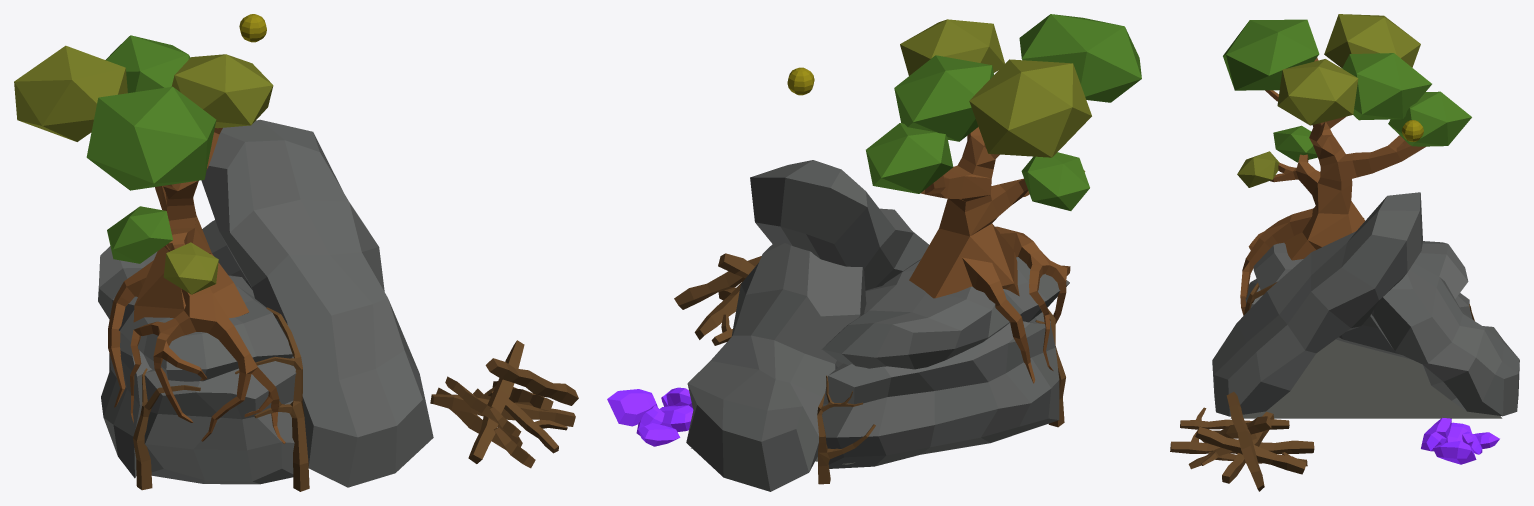
Rendered from storage.fbx.
3 views of the same model, side by side, from view 1: azimuth 30°, elevation 25°; view 2: azimuth 150°, elevation 25°; view 3: azimuth 270°, elevation 25° (orthographic). The views are drawn at different scales.
Visible parts, largest first — view 1: cave, Cube.009, Icosphere.027, Icosphere.026, Icosphere.024, Icosphere.001, Icosphere.029, root.002, Icosphere.028, stick.002, root.001, stick.001 (+6 smaller); view 2: cave, Cube.009, Icosphere.026, Icosphere.027, Icosphere.001, Icosphere.025, Icosphere.024, Icosphere.029, root, amber, stick.002, stick.003 (+4 smaller); view 3: cave, Plane, Cube.009, Icosphere.027, Icosphere.001, Icosphere.024, Icosphere.026, Icosphere.025, stick.003, stick.005, stick.002, Icosphere.029 (+7 smaller).
Part boxes in pixels (x1=…): cave: x1=98, y1=119, x2=433, y2=487; Cube.009: x1=108, y1=128, x2=285, y2=443; Icosphere.027: x1=86, y1=86, x2=216, y2=190; Icosphere.026: x1=14, y1=45, x2=127, y2=141; Icosphere.024: x1=171, y1=54, x2=273, y2=128; Icosphere.001: x1=106, y1=35, x2=190, y2=93; Icosphere.029: x1=107, y1=206, x2=172, y2=263; root.002: x1=235, y1=307, x2=309, y2=491; Icosphere.028: x1=163, y1=242, x2=218, y2=294; stick.002: x1=485, y1=358, x2=578, y2=405; root.001: x1=133, y1=368, x2=200, y2=490; stick.001: x1=468, y1=340, x2=524, y2=463; cave: x1=686, y1=160, x2=1069, y2=491; Cube.009: x1=909, y1=127, x2=1070, y2=383; Icosphere.026: x1=969, y1=59, x2=1091, y2=157; Icosphere.027: x1=1019, y1=14, x2=1141, y2=102; Icosphere.001: x1=894, y1=55, x2=993, y2=141; Icosphere.025: x1=866, y1=123, x2=953, y2=193; Icosphere.024: x1=900, y1=19, x2=1004, y2=75; Icosphere.029: x1=1021, y1=152, x2=1089, y2=210; root: x1=817, y1=375, x2=875, y2=484; amber: x1=607, y1=389, x2=657, y2=426; stick.002: x1=674, y1=256, x2=761, y2=309; stick.003: x1=694, y1=281, x2=742, y2=339; cave: x1=1212, y1=192, x2=1519, y2=416; Plane: x1=1230, y1=339, x2=1502, y2=418; Cube.009: x1=1240, y1=57, x2=1425, y2=315; Icosphere.027: x1=1223, y1=19, x2=1319, y2=90; Icosphere.001: x1=1342, y1=53, x2=1431, y2=120; Icosphere.024: x1=1277, y1=59, x2=1358, y2=125; Icosphere.026: x1=1324, y1=14, x2=1420, y2=67; Icosphere.025: x1=1388, y1=91, x2=1471, y2=146; stick.003: x1=1195, y1=426, x2=1306, y2=474; stick.005: x1=1170, y1=430, x2=1314, y2=453; stick.002: x1=1226, y1=392, x2=1264, y2=491; Icosphere.029: x1=1273, y1=125, x2=1317, y2=162.
Size of the model in its own units: 620 by 499 by 502.
